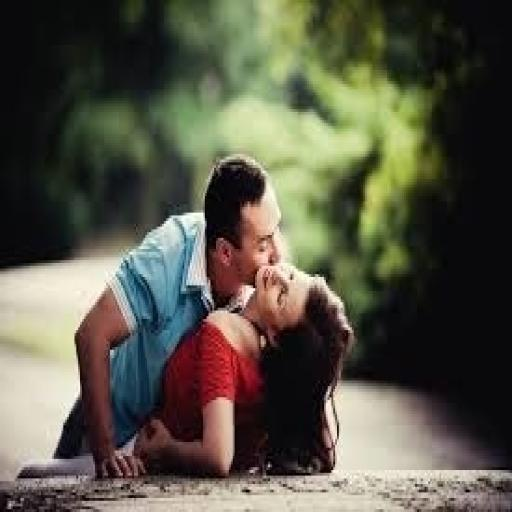hugging: (18, 151, 356, 484)
